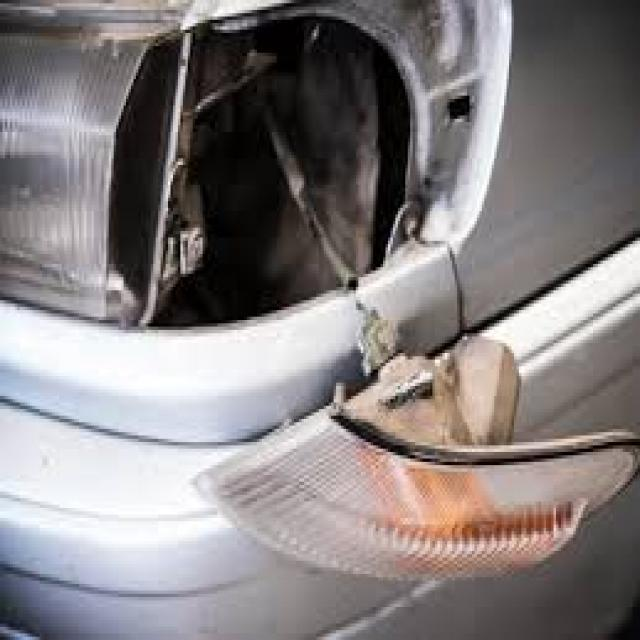damaged-head-light: (0, 3, 479, 313)
